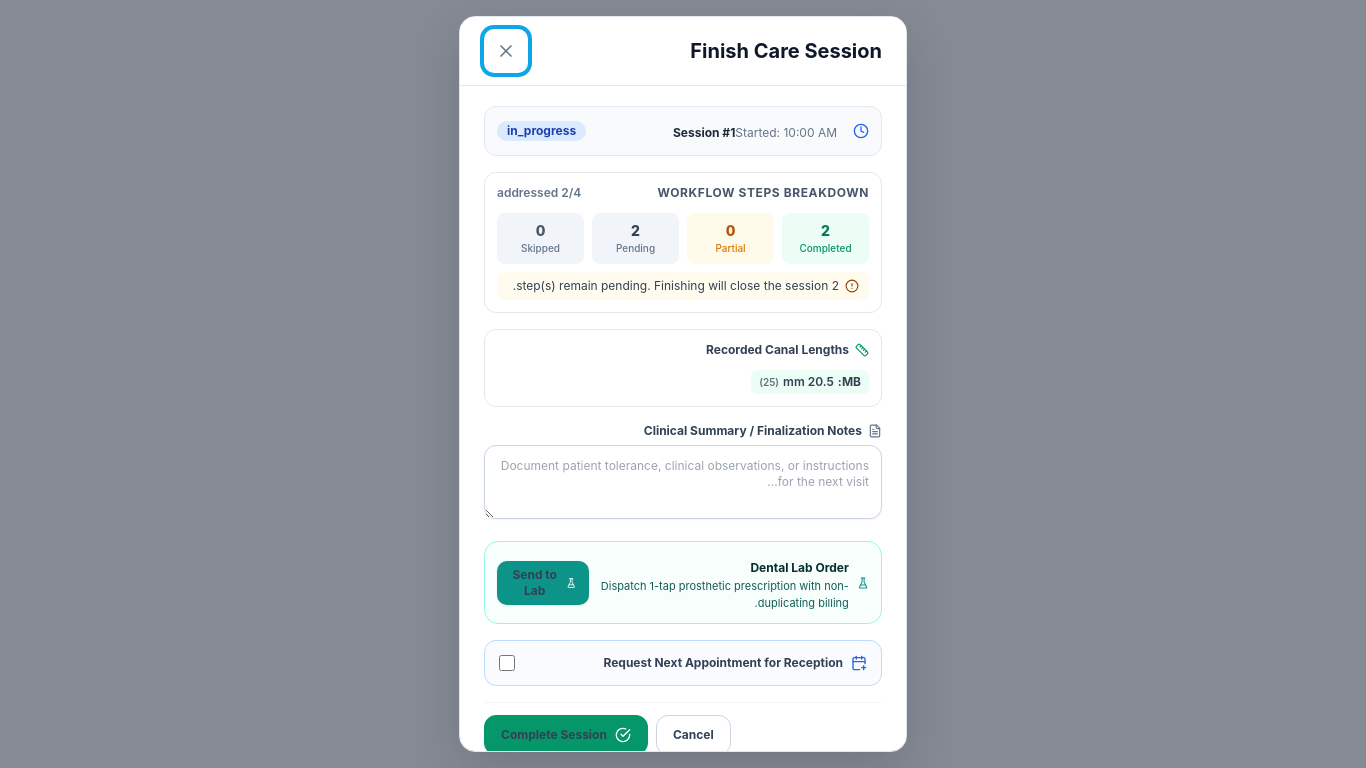
Scenario: Slice S22: Care Session Appointment Integration & Next-Visit Request › displays the G11-M08 no-auto-booking invariant notice prominently
Click the checkbox with test id "request-next-visit-toggle" at (507, 663), box [499, 655, 515, 671]
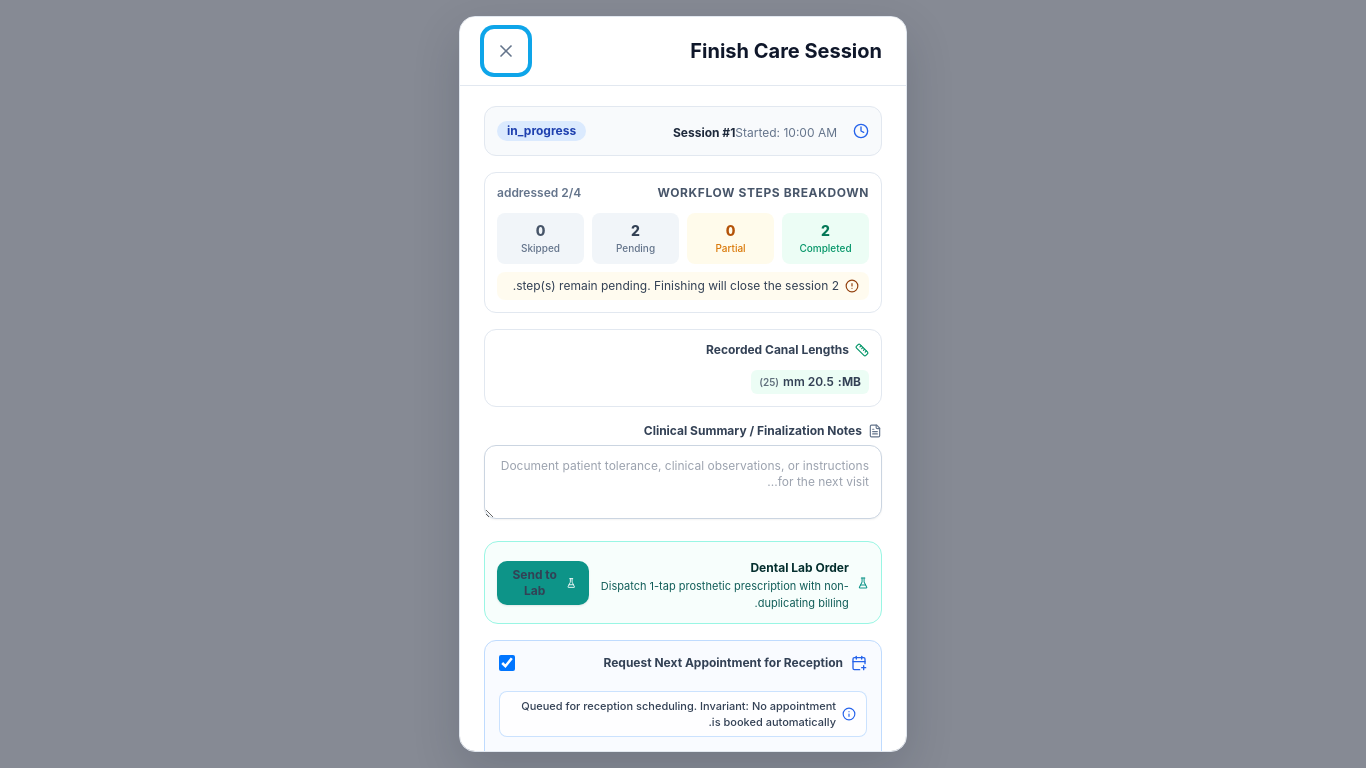
Now the element with test id "no-auto-booking-badge" is shown, box [499, 691, 867, 737]
Now the element with test id "no-auto-booking-badge" shows "No appointment is booked automatically", box [521, 699, 836, 729]
